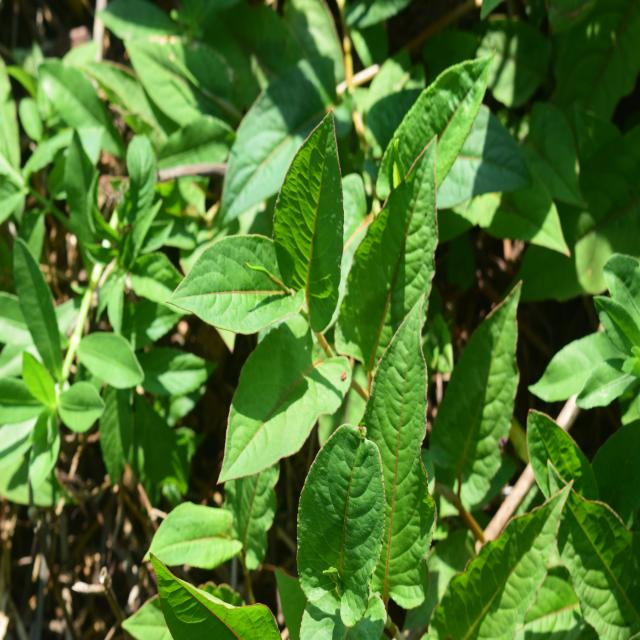Chinese_knotweed: (184, 111, 441, 447)
